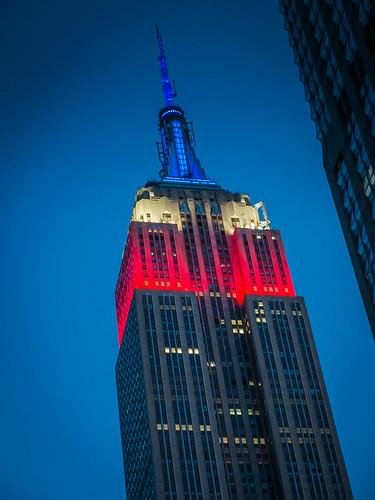building: (104, 172, 356, 500)
